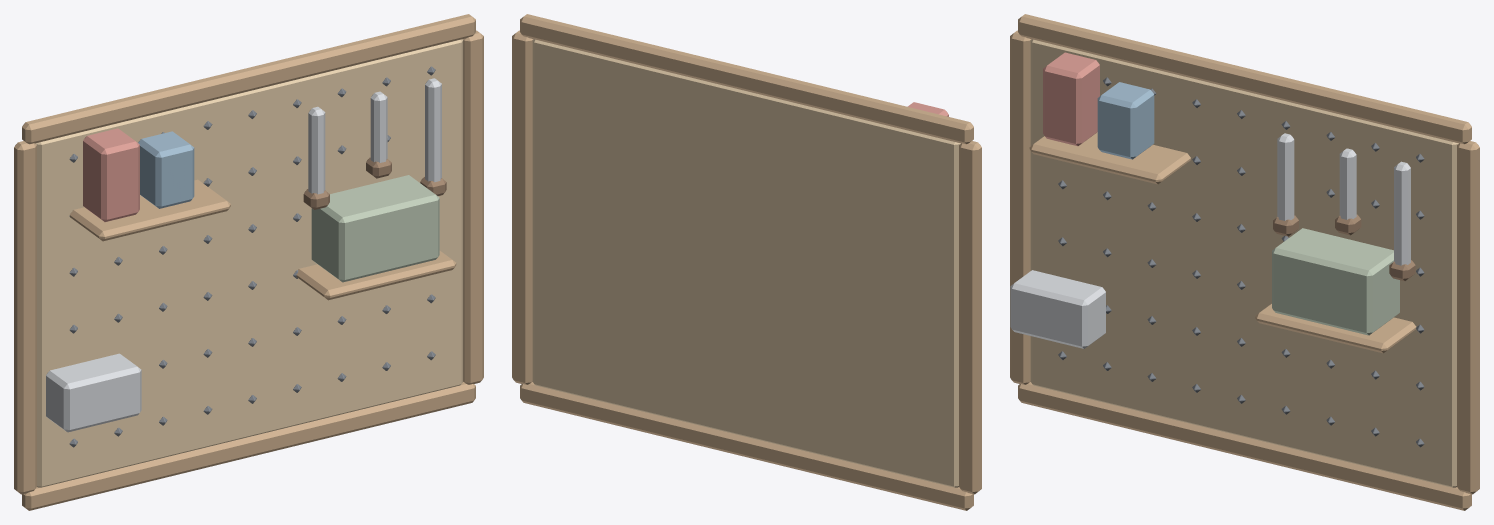
Rendered from WallPegboard.glb.
3 views of the same model, side by side, from view 1: azimuth 30°, elevation 25°; view 2: azimuth 150°, elevation 25°; view 3: azimuth 330°, elevation 25° (orthographic).
Parts seen in each view (by area): view 1: SpaceSaver_WallPegboard; view 2: SpaceSaver_WallPegboard; view 3: SpaceSaver_WallPegboard.
Boxes of the visible parts, <box> form: SpaceSaver_WallPegboard: <box>14,14,483,510</box>; SpaceSaver_WallPegboard: <box>512,14,981,510</box>; SpaceSaver_WallPegboard: <box>1010,14,1479,510</box>.
Bounding box in the file's own units: 1.2 × 0.95 × 0.1725.
